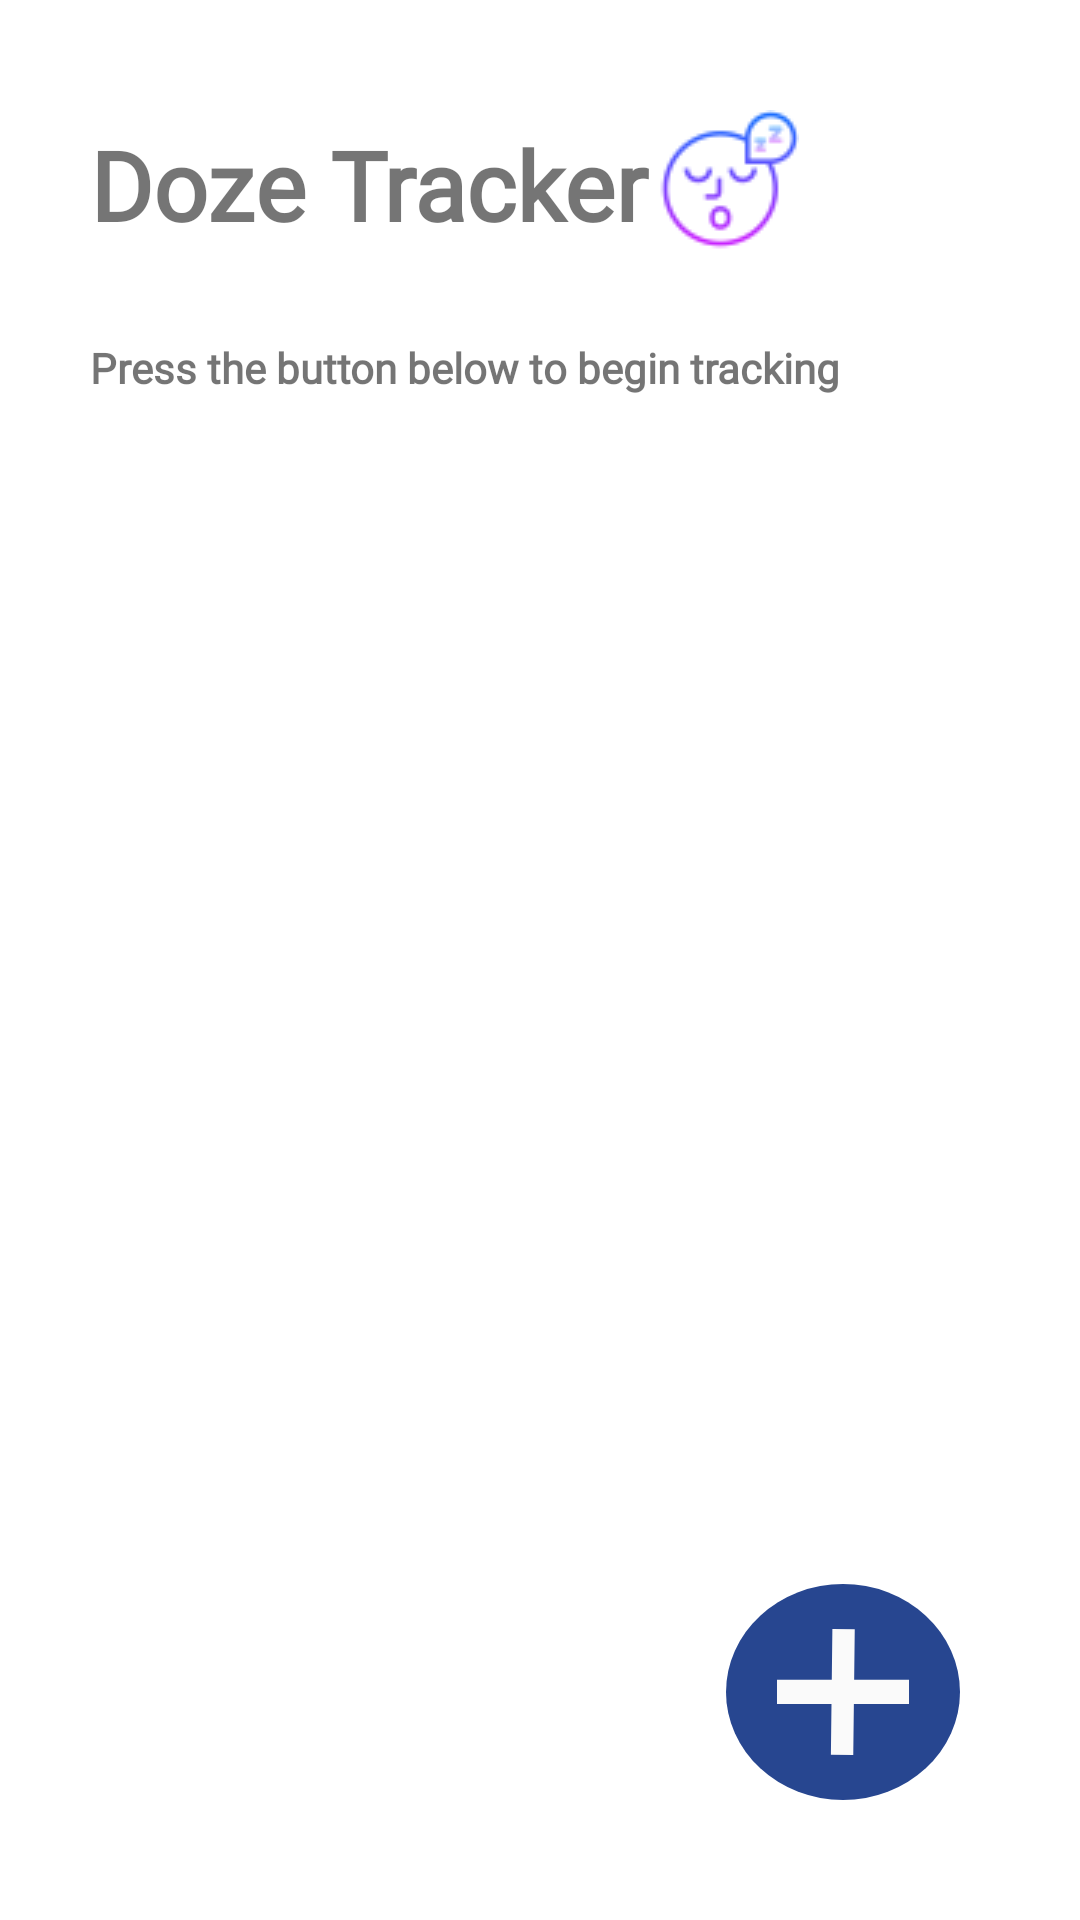

Where icons sit on this 1080×1920 app screen, as [x1,y1,x2,y2]:
add entry: [726,1584,960,1800]
sleeping: [661,110,799,248]
